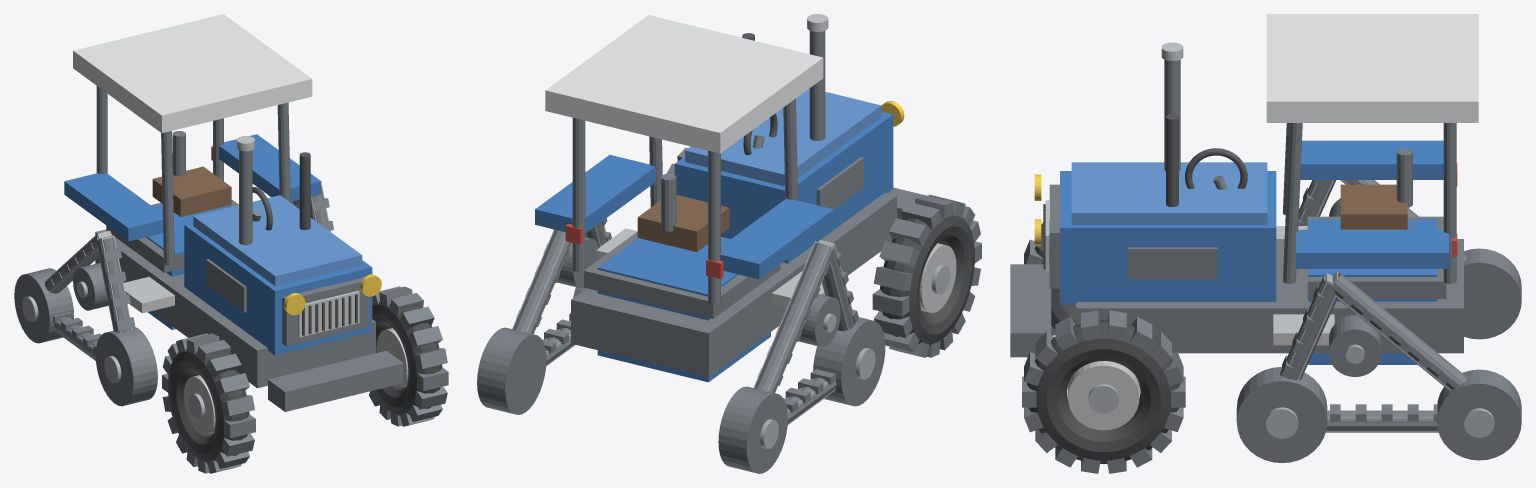
Rendered from Ford366_EXITA (1).glb.
The picture shows the model from 3 angles, left to right: view 1: azimuth 30°, elevation 25°; view 2: azimuth 150°, elevation 25°; view 3: azimuth 270°, elevation 25°; orthographic projection. The views are drawn at different scales.
Visible parts, largest first — view 1: White open canopy, Main chassis, Bonnet top, Engine bonnet lower, Front weight bumper, Left front rubber tyre, Left rear fender, Left Front idler, Right front rubber tyre, Left Drive sprocket, Right rear fender, Seat cushion (+31 smaller); view 2: White open canopy, Main chassis, Engine bonnet lower, Bonnet top, Transmission housing, Left front rubber tyre, Left rear fender, Right Drive sprocket, Right rear fender, Left Drive sprocket, Operator floor, Left Front idler (+22 smaller); view 3: White open canopy, Engine bonnet lower, Main chassis, Bonnet top, Right front rubber tyre, Right Front idler, Right rear fender, Right Drive sprocket, Left rear fender, Left Drive sprocket, Front weight bumper, Right front rim (+25 smaller).
Part boxes in pixels (<box>): White open canopy: <box>73,14,312,133</box>; Main chassis: <box>95,229,375,388</box>; Bonnet top: <box>193,195,362,286</box>; Engine bonnet lower: <box>184,223,372,355</box>; Front weight bumper: <box>268,350,403,411</box>; Left front rubber tyre: <box>168,343,249,463</box>; Left rear fender: <box>64,173,163,241</box>; Left Front idler: <box>95,326,157,406</box>; Right front rubber tyre: <box>372,296,442,415</box>; Left Drive sprocket: <box>14,268,73,343</box>; Right rear fender: <box>219,134,321,201</box>; Seat cushion: <box>152,166,231,216</box>; White open canopy: <box>545,15,823,153</box>; Main chassis: <box>571,192,897,377</box>; Engine bonnet lower: <box>674,111,893,263</box>; Bonnet top: <box>685,88,881,186</box>; Transmission housing: <box>597,237,770,382</box>; Left front rubber tyre: <box>880,206,974,345</box>; Left rear fender: <box>720,198,833,279</box>; Right Drive sprocket: <box>477,327,546,414</box>; Right rear fender: <box>535,154,655,233</box>; Left Drive sprocket: <box>718,386,787,473</box>; Operator floor: <box>584,231,780,318</box>; Left Front idler: <box>813,317,885,406</box>; White open canopy: <box>1266,14,1478,122</box>; Engine bonnet lower: <box>1060,171,1276,304</box>; Main chassis: <box>1076,239,1463,353</box>; Bonnet top: <box>1071,162,1267,224</box>; Right front rubber tyre: <box>1027,320,1180,464</box>; Right Front idler: <box>1236,367,1327,462</box>; Right rear fender: <box>1296,229,1449,268</box>; Right Drive sprocket: <box>1437,369,1521,460</box>; Left rear fender: <box>1300,140,1443,179</box>; Left Drive sprocket: <box>1464,248,1521,339</box>; Front weight bumper: <box>1010,264,1051,357</box>; Right front rim: <box>1068,361,1139,430</box>.
Size of the model in its own units: 2.26 by 2.66 by 3.5.
